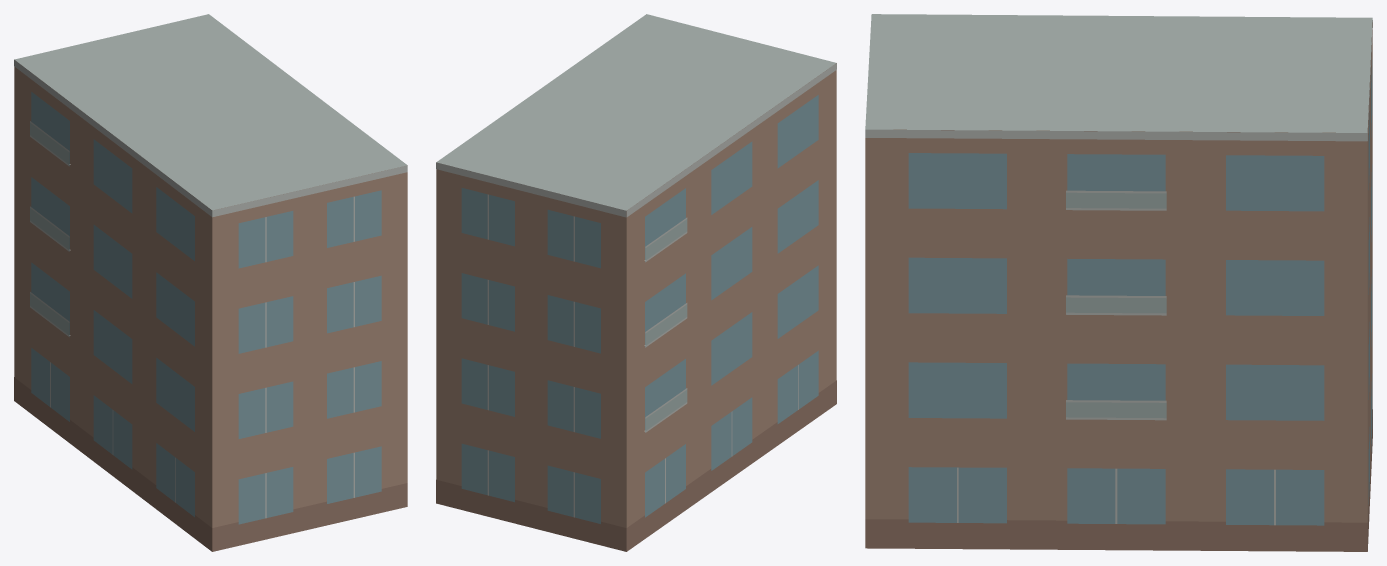
Rendered from survey-upis-32811507.glb.
3 renders of one model, left to right at view 1: azimuth 30°, elevation 25°; view 2: azimuth 150°, elevation 25°; view 3: azimuth 270°, elevation 25°, orthographic. The views are drawn at different scales.
Parts seen in each view (by area): view 1: survey-upis-32811507.tmp; view 2: survey-upis-32811507.tmp; view 3: survey-upis-32811507.tmp.
Boxes of the visible parts, bbox=[...] form: survey-upis-32811507.tmp: bbox=[14, 14, 407, 551]; survey-upis-32811507.tmp: bbox=[436, 14, 836, 551]; survey-upis-32811507.tmp: bbox=[865, 14, 1372, 551].
Bounding box in the file's own units: 7.44 × 12.2 × 13.41.
